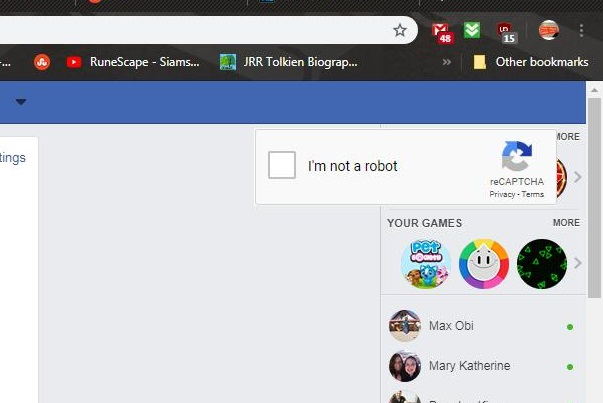captcha: (268, 150, 398, 179)
